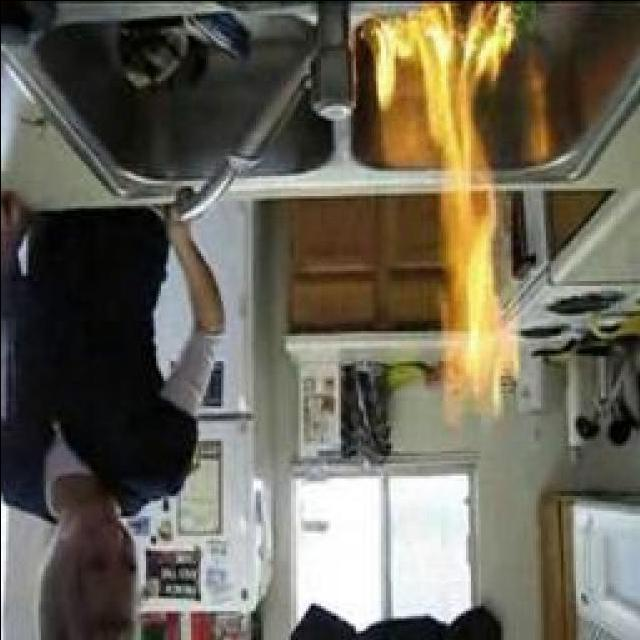Fire: (367, 6, 528, 431)
